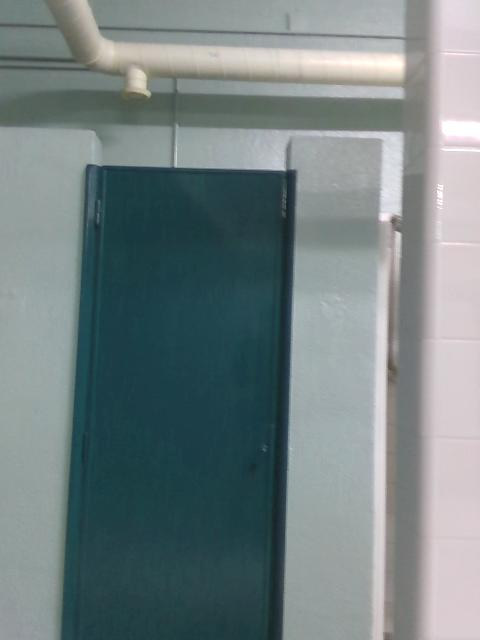closed_door: (63, 165, 294, 638)
